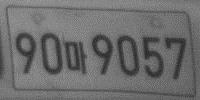0: (38, 32, 63, 75), (117, 34, 141, 77)
5: (142, 36, 164, 80)
7: (163, 36, 187, 81)
9: (90, 34, 114, 76), (15, 31, 36, 75)
마: (64, 39, 88, 76)
